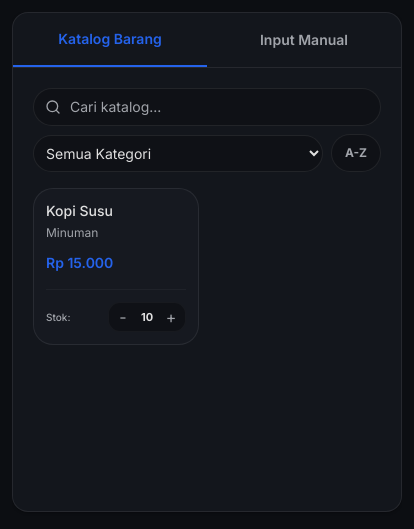
Test: InputPenjualan — Shopping Cart Flow › 1. Menambah barang dari Katalog ke Keranjang
Click the text "Kopi Susu": (79, 210) 46,202 -> 113,219
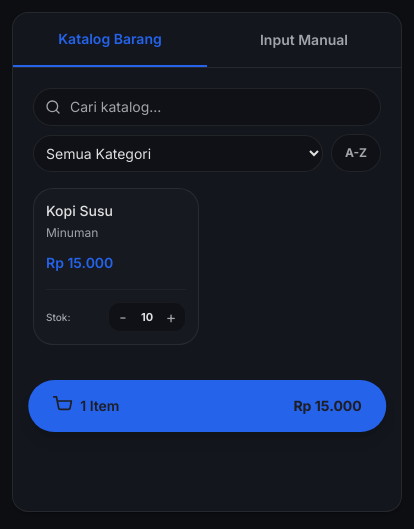
Expected: the 1st text "Rp 15.000" is shown, 46,253 -> 113,273
Now the text "1 Item" is shown, box 52,396 -> 120,416
